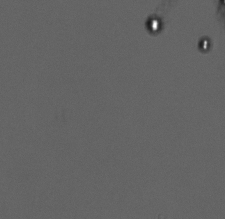Living Cell: (145, 15, 165, 35), (198, 33, 210, 52)
